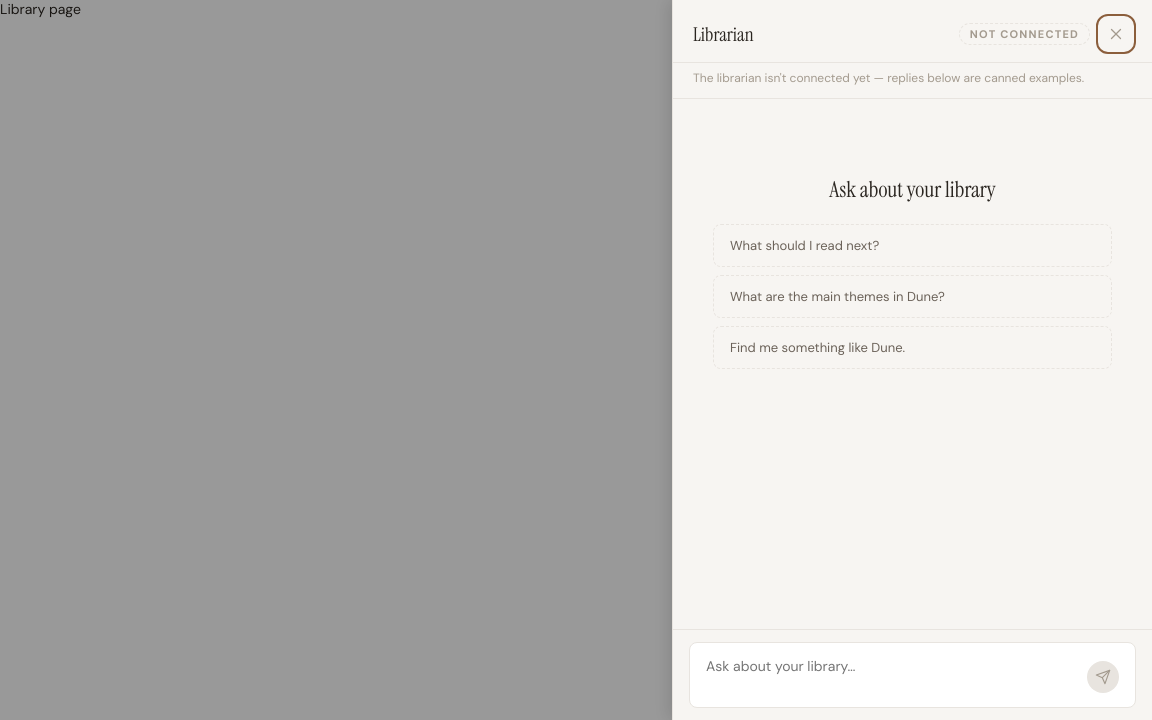
Test: LibrarianPanel › disables the send button while empty, and enables it once there's text
Expected: the button named "Send" is disabled, left=1087, top=661, right=1119, bottom=693
Type "hello" into the text box with placeholder "Ask about your library…". click: (892, 675)
box: left=706, top=657, right=1079, bottom=693
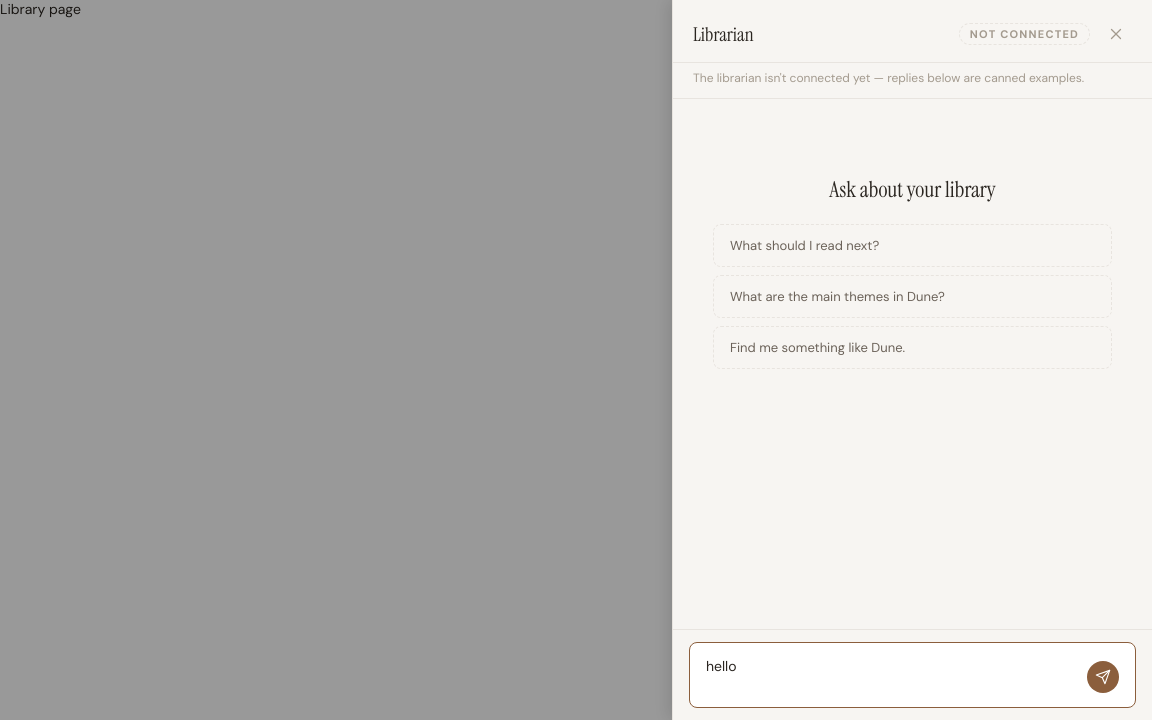
Expected: the button named "Send" is enabled, left=1087, top=661, right=1119, bottom=693
